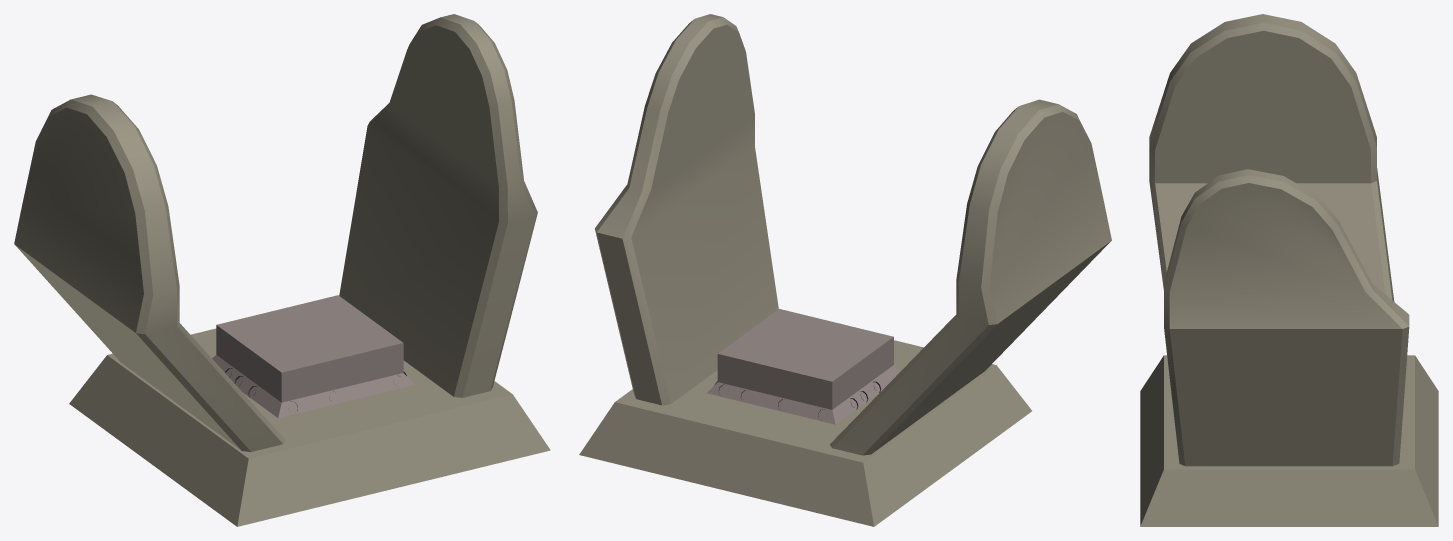
The model's file is gunbase.fbx.
3 renders of one model, left to right at view 1: azimuth 30°, elevation 25°; view 2: azimuth 150°, elevation 25°; view 3: azimuth 270°, elevation 25°, orthographic. The views are drawn at different scales.
Visible parts, largest first — view 1: Cube.019; view 2: Cube.019; view 3: Cube.019.
Boxes of the visible parts, bbox=[...] form: Cube.019: bbox=[14, 14, 550, 526]; Cube.019: bbox=[579, 14, 1111, 526]; Cube.019: bbox=[1140, 14, 1438, 526].
Bounding box in the file's own units: 335 × 309 × 238.
